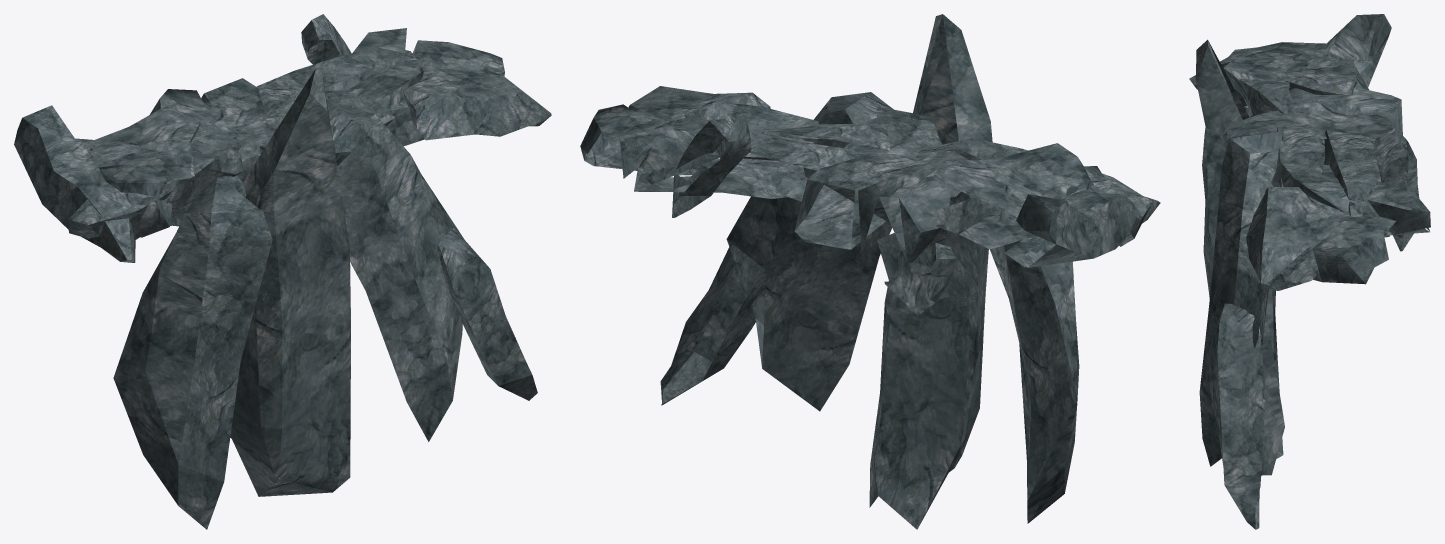
Rendered from FloatPiece2.fbx.
The picture shows the model from 3 angles, left to right: view 1: azimuth 30°, elevation 25°; view 2: azimuth 150°, elevation 25°; view 3: azimuth 270°, elevation 25°; orthographic projection. The views are drawn at different scales.
Parts seen in each view (by area): view 1: ElevatedPiece2; view 2: ElevatedPiece2; view 3: ElevatedPiece2.
Part boxes in pixels (<box>): ElevatedPiece2: <box>14,14,551,529</box>; ElevatedPiece2: <box>580,14,1160,529</box>; ElevatedPiece2: <box>1189,14,1430,529</box>.
Bounding box in the file's own units: 12.54 × 11.24 × 5.82.
1 material, 1 textured.
